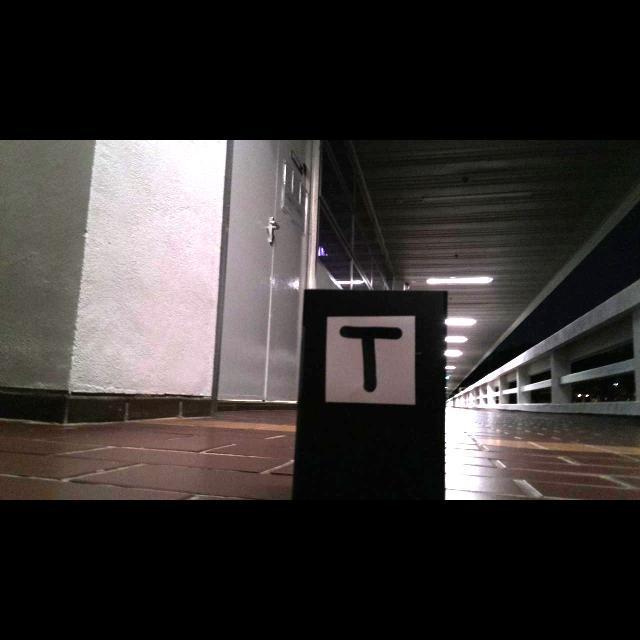T: (340, 325, 404, 393)
